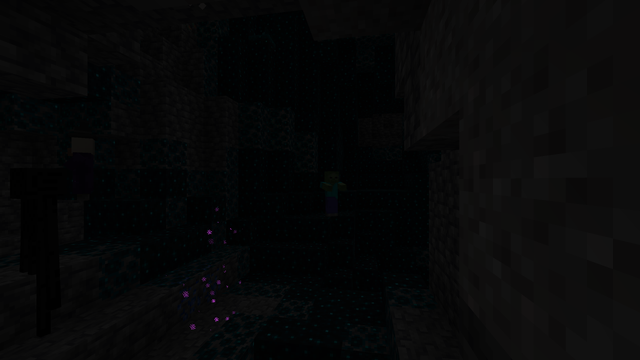endermens: (1, 162, 72, 345)
sorcieres: (64, 134, 101, 200)
zombies: (323, 172, 337, 216)
